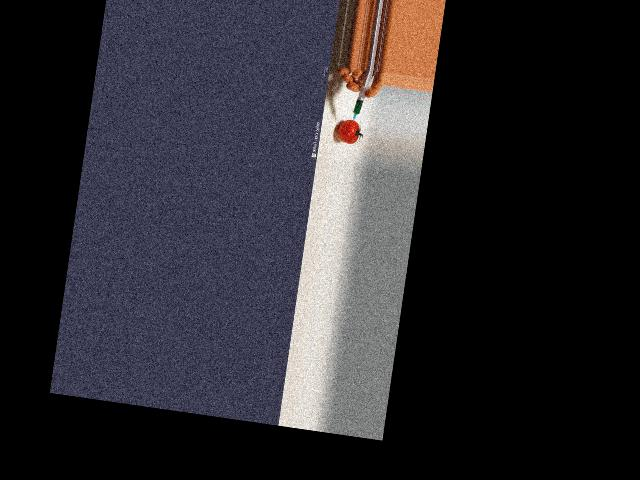tomato: (336, 118, 360, 144)
